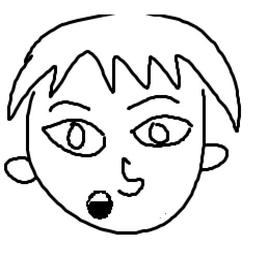ear: (1, 149, 40, 189), (193, 138, 231, 175)
eye: (38, 115, 110, 159), (128, 112, 194, 151)
eyebrow: (124, 92, 183, 109), (43, 99, 94, 113)
nose: (114, 152, 147, 199)
open_mouth: (86, 187, 115, 221)
